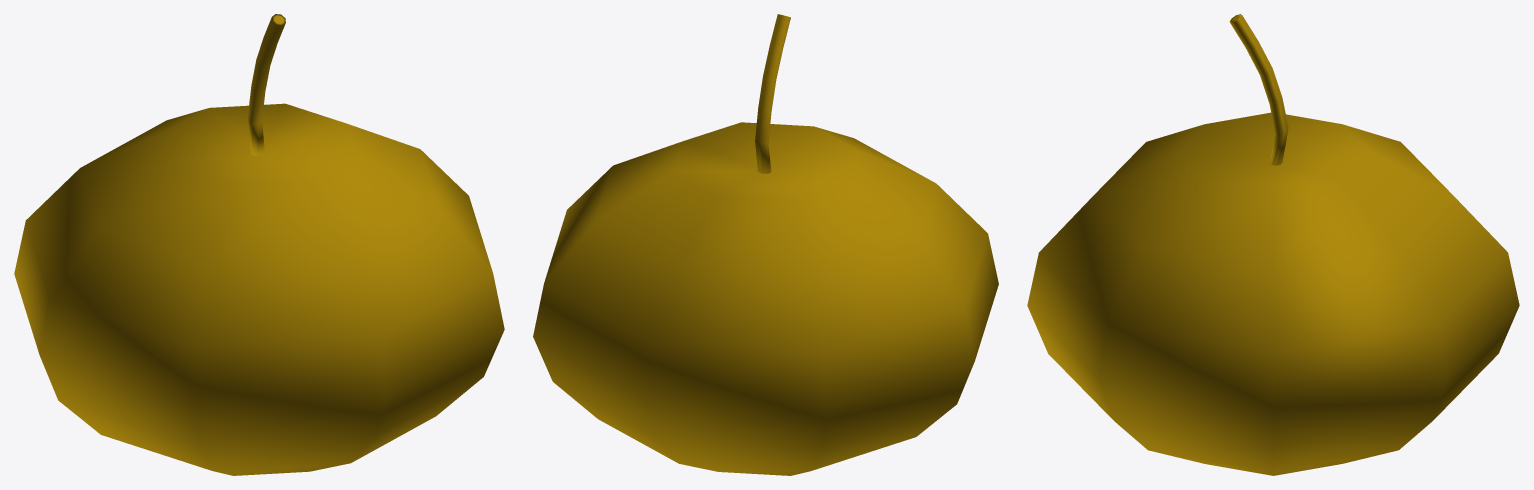
File: Fruit 01.fbx
3 views of the same model, side by side, from view 1: azimuth 30°, elevation 25°; view 2: azimuth 150°, elevation 25°; view 3: azimuth 270°, elevation 25° (orthographic). The views are drawn at different scales.
Visible parts, largest first — view 1: Fruit_01_GEO; view 2: Fruit_01_GEO; view 3: Fruit_01_GEO.
Boxes of the visible parts, bbox=[...] form: Fruit_01_GEO: bbox=[14, 14, 504, 475]; Fruit_01_GEO: bbox=[533, 14, 998, 475]; Fruit_01_GEO: bbox=[1027, 14, 1519, 475].
Size of the model in its own units: 59.84 by 58.62 by 59.84.
